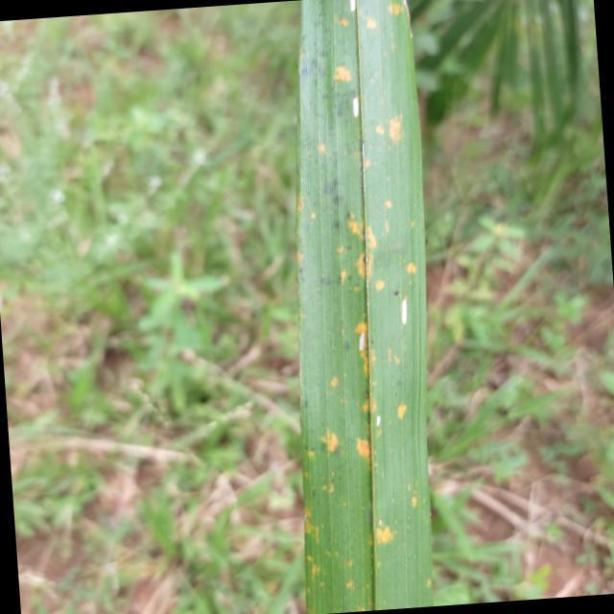Kalium: (296, 0, 435, 614)
